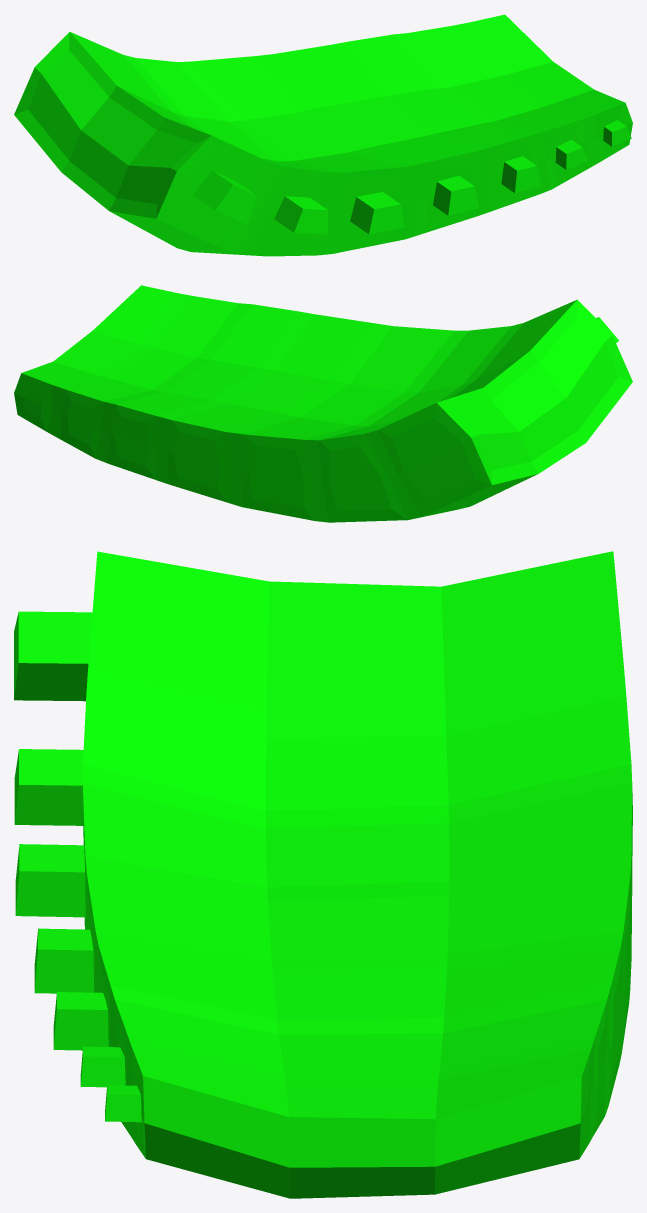
File: SM_Ribs.fbx
The picture shows the model from 3 angles, top to bottom: view 1: azimuth 30°, elevation 25°; view 2: azimuth 150°, elevation 25°; view 3: azimuth 270°, elevation 25°; orthographic projection. The views are drawn at different scales.
Visible parts, largest first — view 1: ribs; view 2: ribs; view 3: ribs.
Part boxes in pixels (x1=…): ribs: x1=14, y1=14, x2=632, y2=256; ribs: x1=14, y1=285, x2=632, y2=522; ribs: x1=14, y1=551, x2=632, y2=1198.
Size of the model in its own units: 0.366 by 0.1311 by 0.2173.
